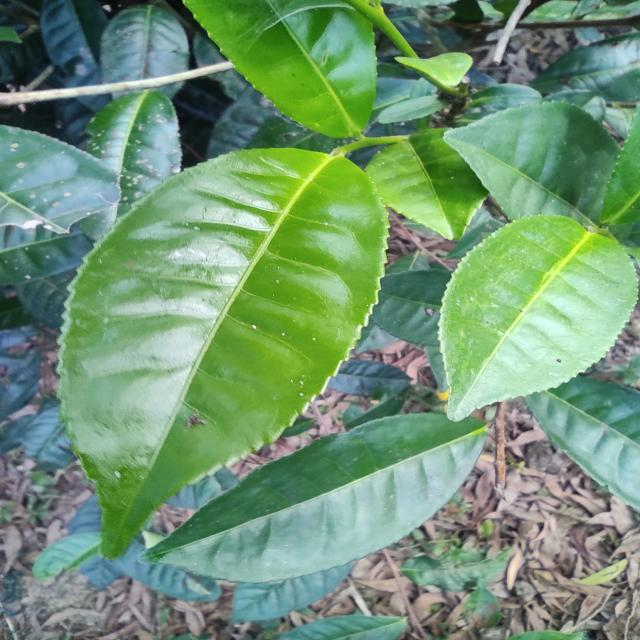Category D(7+ days, Not for Tea): (38, 138, 406, 572)
